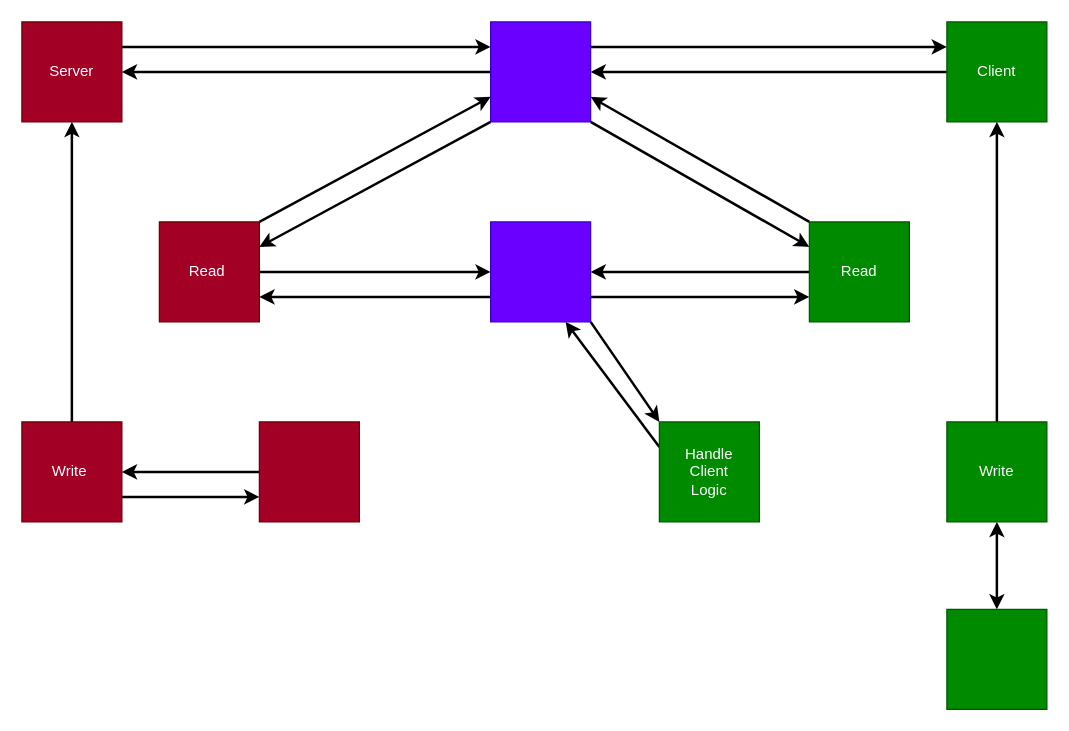
Image size: 1069x731. Some labels were removed from this diagram. The centre of each missing label's shape, as x and y in pixels:
"Create Message" goes at point 996,658.
"Handle Server Logic" goes at point 308,471.
"Message" goes at point 540,71.
"Process Message" goes at point 540,271.
